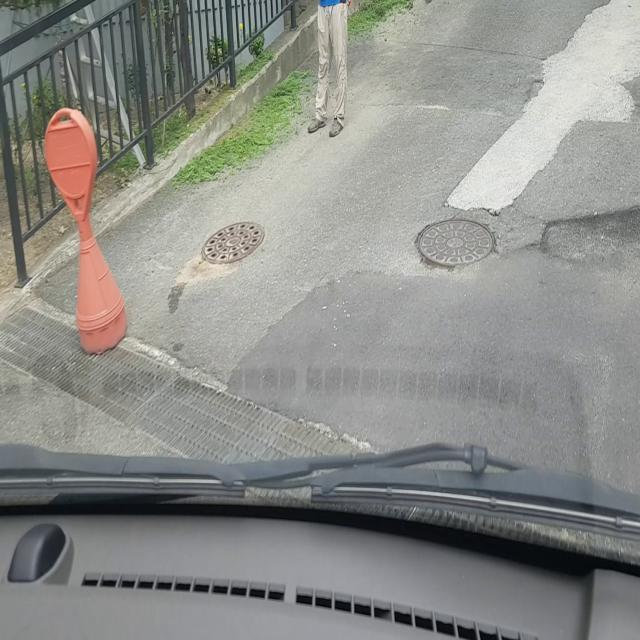pothole: (413, 216, 500, 273)
